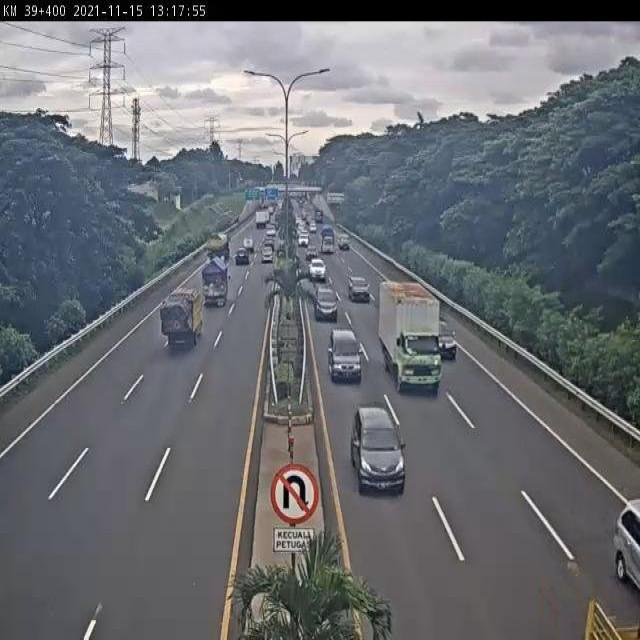car: (349, 403, 407, 496), (327, 331, 363, 384), (429, 316, 459, 361), (314, 287, 340, 324), (348, 274, 371, 306)
truck-m-: (377, 276, 443, 395), (159, 286, 203, 351), (202, 258, 229, 310)
